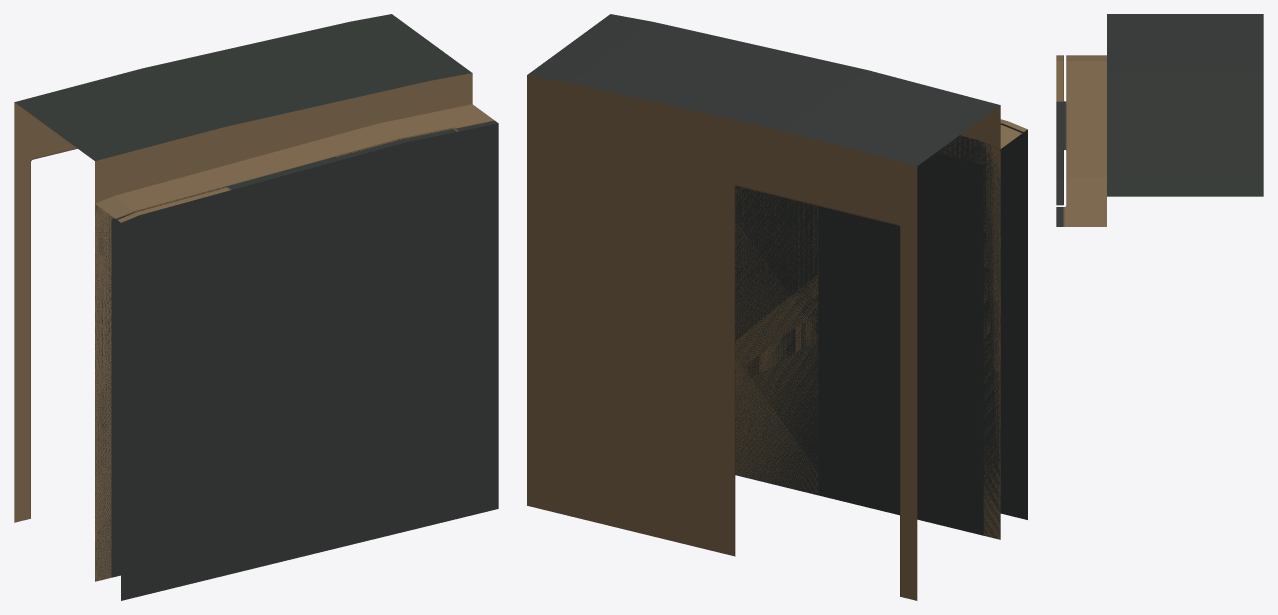
The model's file is section-8.obj.
3 renders of one model, left to right at view 1: azimuth 30°, elevation 25°; view 2: azimuth 150°, elevation 25°; view 3: azimuth 270°, elevation 25°, orthographic. The views are drawn at different scales.
Size of the model in its own units: 1 by 1.07 by 0.49.
